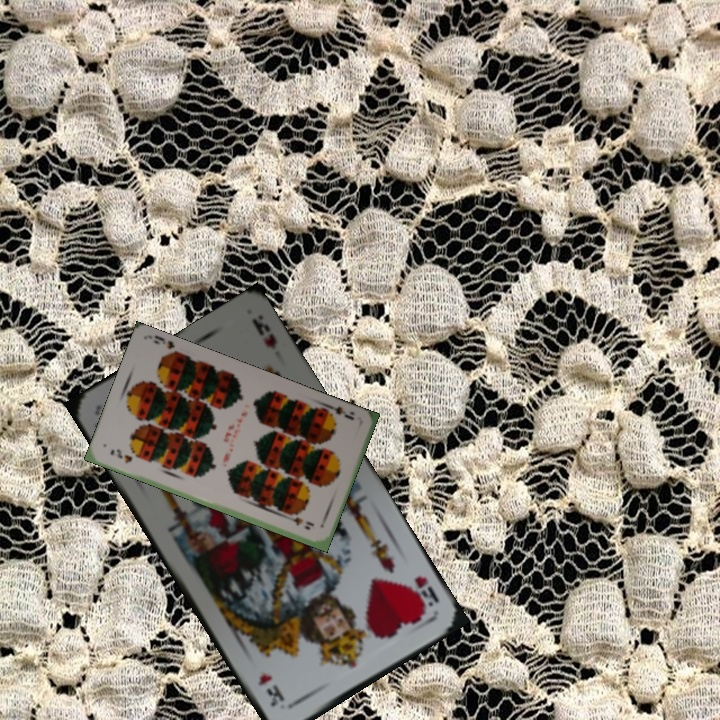HK: (405, 571, 442, 617)
S9: (321, 400, 357, 423), (106, 445, 135, 466)
